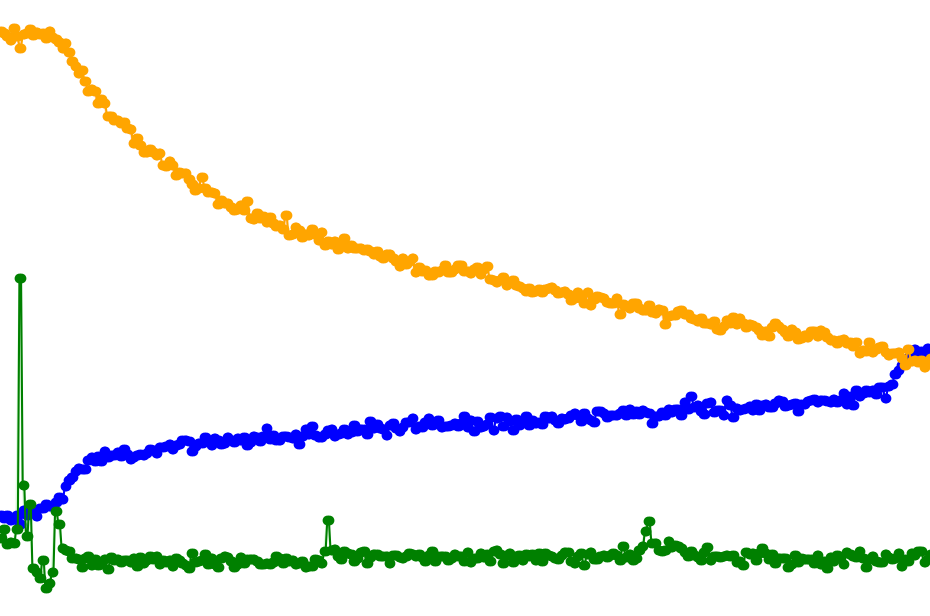CO2 Problem: (0, 0, 466, 616)
Normal: (0, 0, 930, 616), (0, 0, 466, 616), (466, 0, 930, 616)
